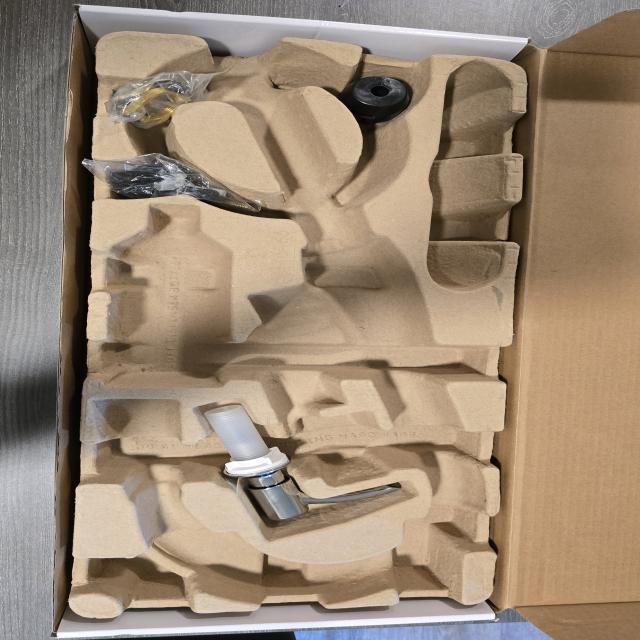1m: (96, 33, 491, 604)
2: (204, 402, 400, 523)
3m: (104, 205, 236, 387)
4m: (428, 60, 515, 290)
5: (343, 74, 413, 123)
6: (102, 68, 232, 129)
7: (79, 152, 262, 213)
